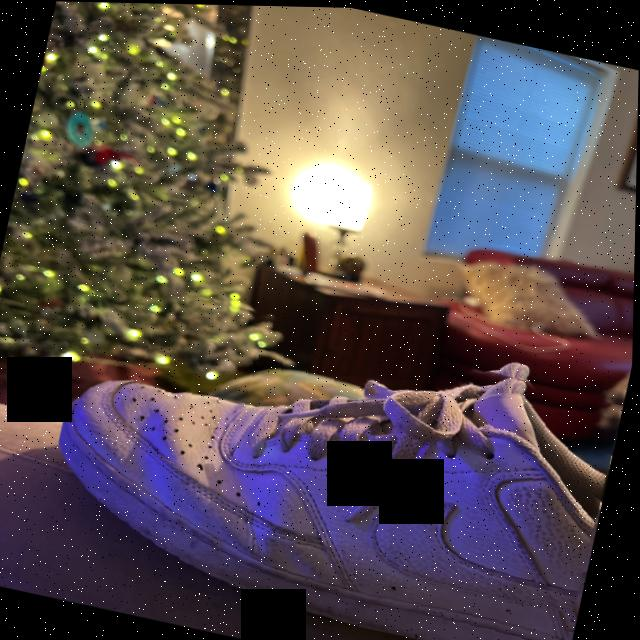shoe: (35, 269, 631, 640)
